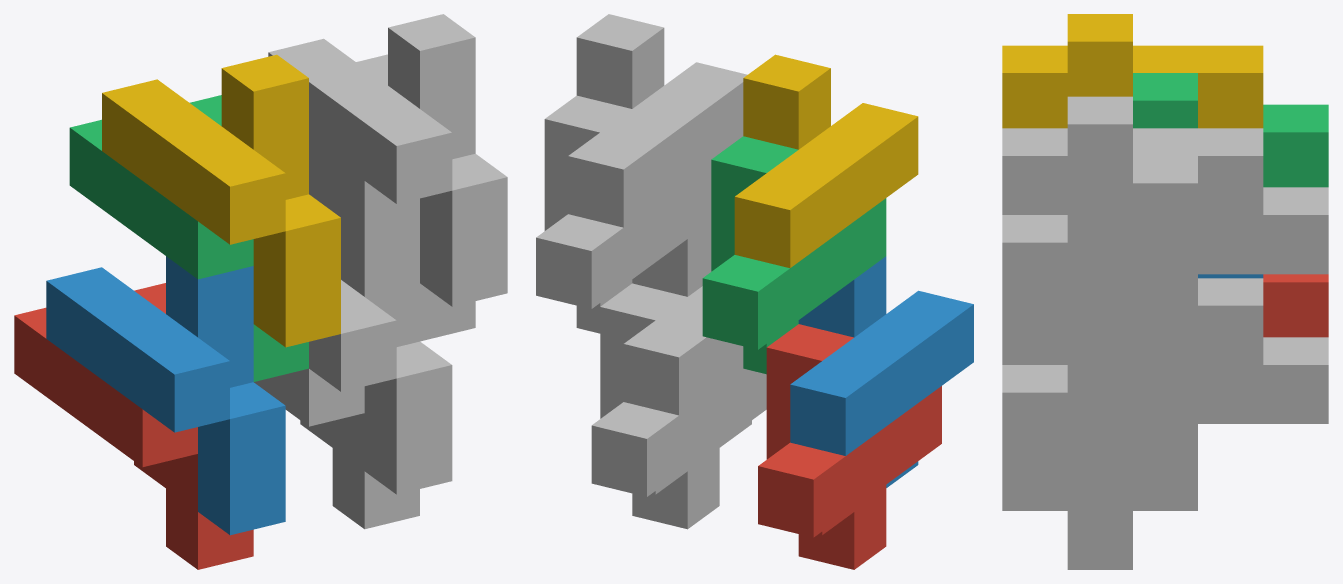
File: tiling.obj
3 views of the same model, side by side, from view 1: azimuth 30°, elevation 25°; view 2: azimuth 150°, elevation 25°; view 3: azimuth 270°, elevation 25° (orthographic).
Parts seen in each view (by area): view 1: copy_1_domain_4, copy_1_domain_2, copy_1_domain_8, copy_1_domain_6, copy_1_domain_1, copy_1_domain_3, copy_1_domain_5, copy_1_domain_7; view 2: copy_1_domain_4, copy_1_domain_8, copy_1_domain_2, copy_1_domain_1, copy_1_domain_5, copy_1_domain_3, copy_1_domain_7, copy_1_domain_6; view 3: copy_1_domain_8, copy_1_domain_7, copy_1_domain_5, copy_1_domain_4, copy_1_domain_6, copy_1_domain_3, copy_1_domain_1.
Boxes of the visible parts, bbox=[...] form: copy_1_domain_4: bbox=[102, 54, 340, 347]; copy_1_domain_2: bbox=[46, 256, 285, 535]; copy_1_domain_8: bbox=[268, 14, 507, 306]; copy_1_domain_6: bbox=[309, 222, 452, 494]; copy_1_domain_1: bbox=[14, 283, 253, 569]; copy_1_domain_3: bbox=[69, 95, 308, 381]; copy_1_domain_5: bbox=[254, 368, 419, 529]; copy_1_domain_7: bbox=[309, 54, 475, 341]; copy_1_domain_4: bbox=[734, 54, 918, 267]; copy_1_domain_8: bbox=[568, 14, 747, 227]; copy_1_domain_2: bbox=[790, 256, 973, 487]; copy_1_domain_1: bbox=[758, 324, 941, 569]; copy_1_domain_5: bbox=[591, 283, 766, 529]; copy_1_domain_3: bbox=[702, 136, 886, 374]; copy_1_domain_7: bbox=[536, 95, 711, 333]; copy_1_domain_6: bbox=[623, 222, 751, 447]; copy_1_domain_8: bbox=[1002, 96, 1263, 360]; copy_1_domain_7: bbox=[1067, 156, 1328, 419]; copy_1_domain_5: bbox=[1067, 337, 1328, 569]; copy_1_domain_4: bbox=[1002, 14, 1263, 128]; copy_1_domain_6: bbox=[1002, 278, 1263, 510]; copy_1_domain_3: bbox=[1133, 73, 1328, 187]; copy_1_domain_1: bbox=[1263, 274, 1328, 337].
Bounding box in the file's own units: 6 × 8 × 5.
